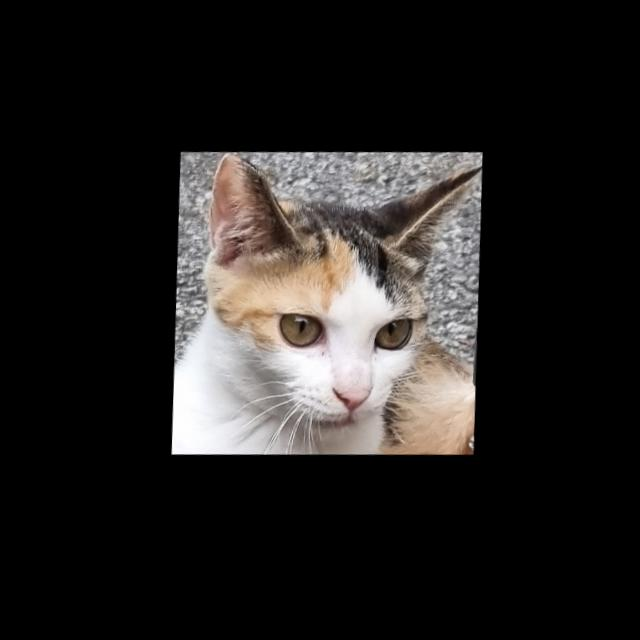animals: (186, 145, 487, 454)
